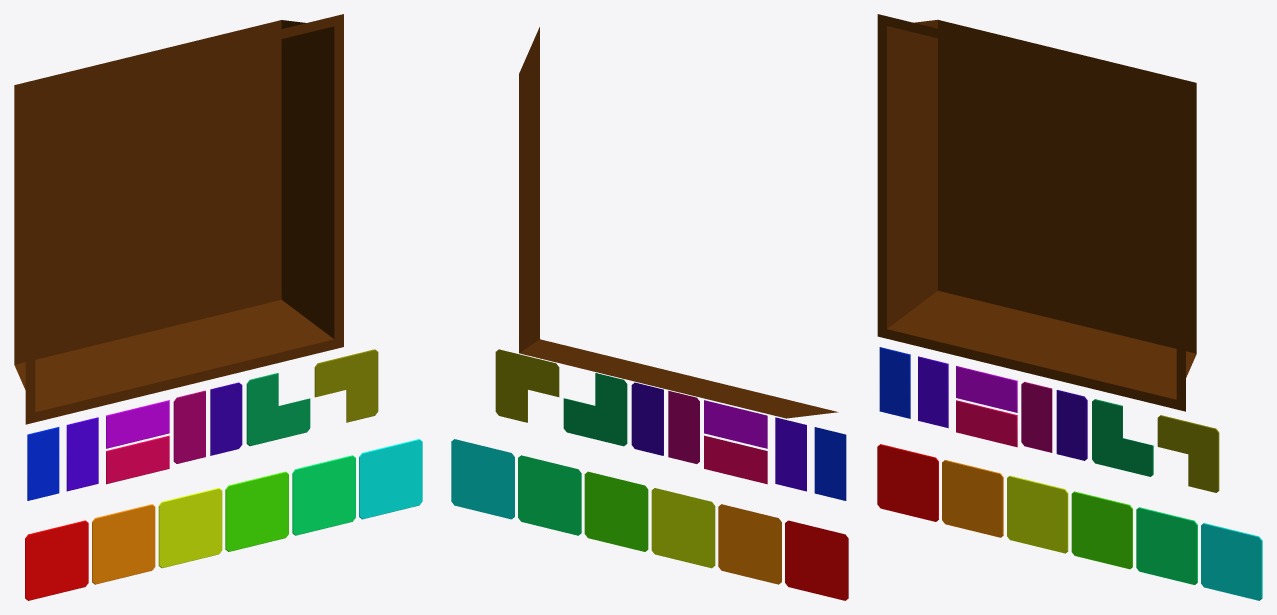
Rendered from Details.fbx.
3 views of the same model, side by side, from view 1: azimuth 30°, elevation 25°; view 2: azimuth 150°, elevation 25°; view 3: azimuth 330°, elevation 25° (orthographic). The views are drawn at different scales.
Parts seen in each view (by area): view 1: Detail_15, Detail_3, Detail_1, Detail_2, Detail_4, Detail_6, Detail_5, Detail_14, Detail_13, Detail_8, Detail_7, Detail_11 (+3 smaller); view 2: Detail_15, Detail_3, Detail_4, Detail_2, Detail_5, Detail_1, Detail_6, Detail_13, Detail_14, Detail_7, Detail_12, Detail_9 (+3 smaller); view 3: Detail_15, Detail_3, Detail_5, Detail_1, Detail_6, Detail_2, Detail_4, Detail_14, Detail_13, Detail_7, Detail_12, Detail_11 (+3 smaller).
Part boxes in pixels (bbox=[...]): Detail_15: bbox=[14, 14, 343, 424]; Detail_3: bbox=[158, 488, 222, 568]; Detail_1: bbox=[25, 520, 88, 600]; Detail_2: bbox=[92, 504, 155, 584]; Detail_4: bbox=[225, 471, 288, 551]; Detail_6: bbox=[359, 439, 422, 519]; Detail_5: bbox=[292, 455, 355, 535]; Detail_14: bbox=[314, 349, 378, 422]; Detail_13: bbox=[246, 373, 310, 446]; Detail_8: bbox=[66, 417, 98, 491]; Detail_7: bbox=[27, 427, 59, 500]; Detail_11: bbox=[173, 390, 205, 463]; Detail_15: bbox=[519, 27, 838, 418]; Detail_3: bbox=[651, 488, 715, 568]; Detail_4: bbox=[584, 471, 648, 551]; Detail_2: bbox=[718, 504, 781, 584]; Detail_5: bbox=[518, 455, 581, 535]; Detail_1: bbox=[785, 520, 848, 600]; Detail_6: bbox=[451, 439, 514, 519]; Detail_13: bbox=[563, 373, 627, 446]; Detail_14: bbox=[495, 349, 559, 422]; Detail_7: bbox=[814, 427, 846, 500]; Detail_12: bbox=[631, 382, 663, 455]; Detail_9: bbox=[704, 400, 767, 448]; Detail_15: bbox=[877, 14, 1196, 411]; Detail_3: bbox=[1007, 475, 1068, 553]; Detail_5: bbox=[1136, 507, 1197, 584]; Detail_1: bbox=[877, 444, 938, 521]; Detail_6: bbox=[1201, 523, 1262, 600]; Detail_2: bbox=[942, 460, 1003, 537]; Detail_4: bbox=[1071, 491, 1132, 569]; Detail_14: bbox=[1157, 415, 1219, 492]; Detail_13: bbox=[1092, 399, 1153, 476]; Detail_7: bbox=[879, 347, 910, 418]; Detail_12: bbox=[1056, 390, 1087, 460]; Detail_11: bbox=[1021, 382, 1052, 452].
Size of the model in its own units: 625 by 766 by 101.
